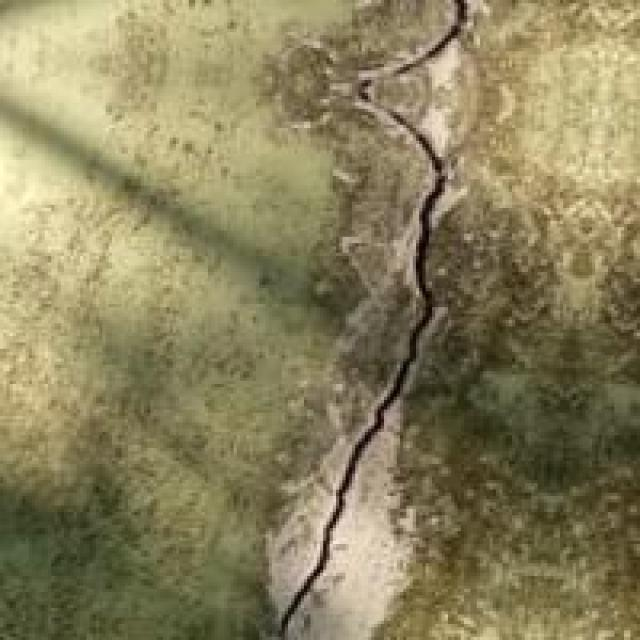Crack: (282, 0, 506, 637)
